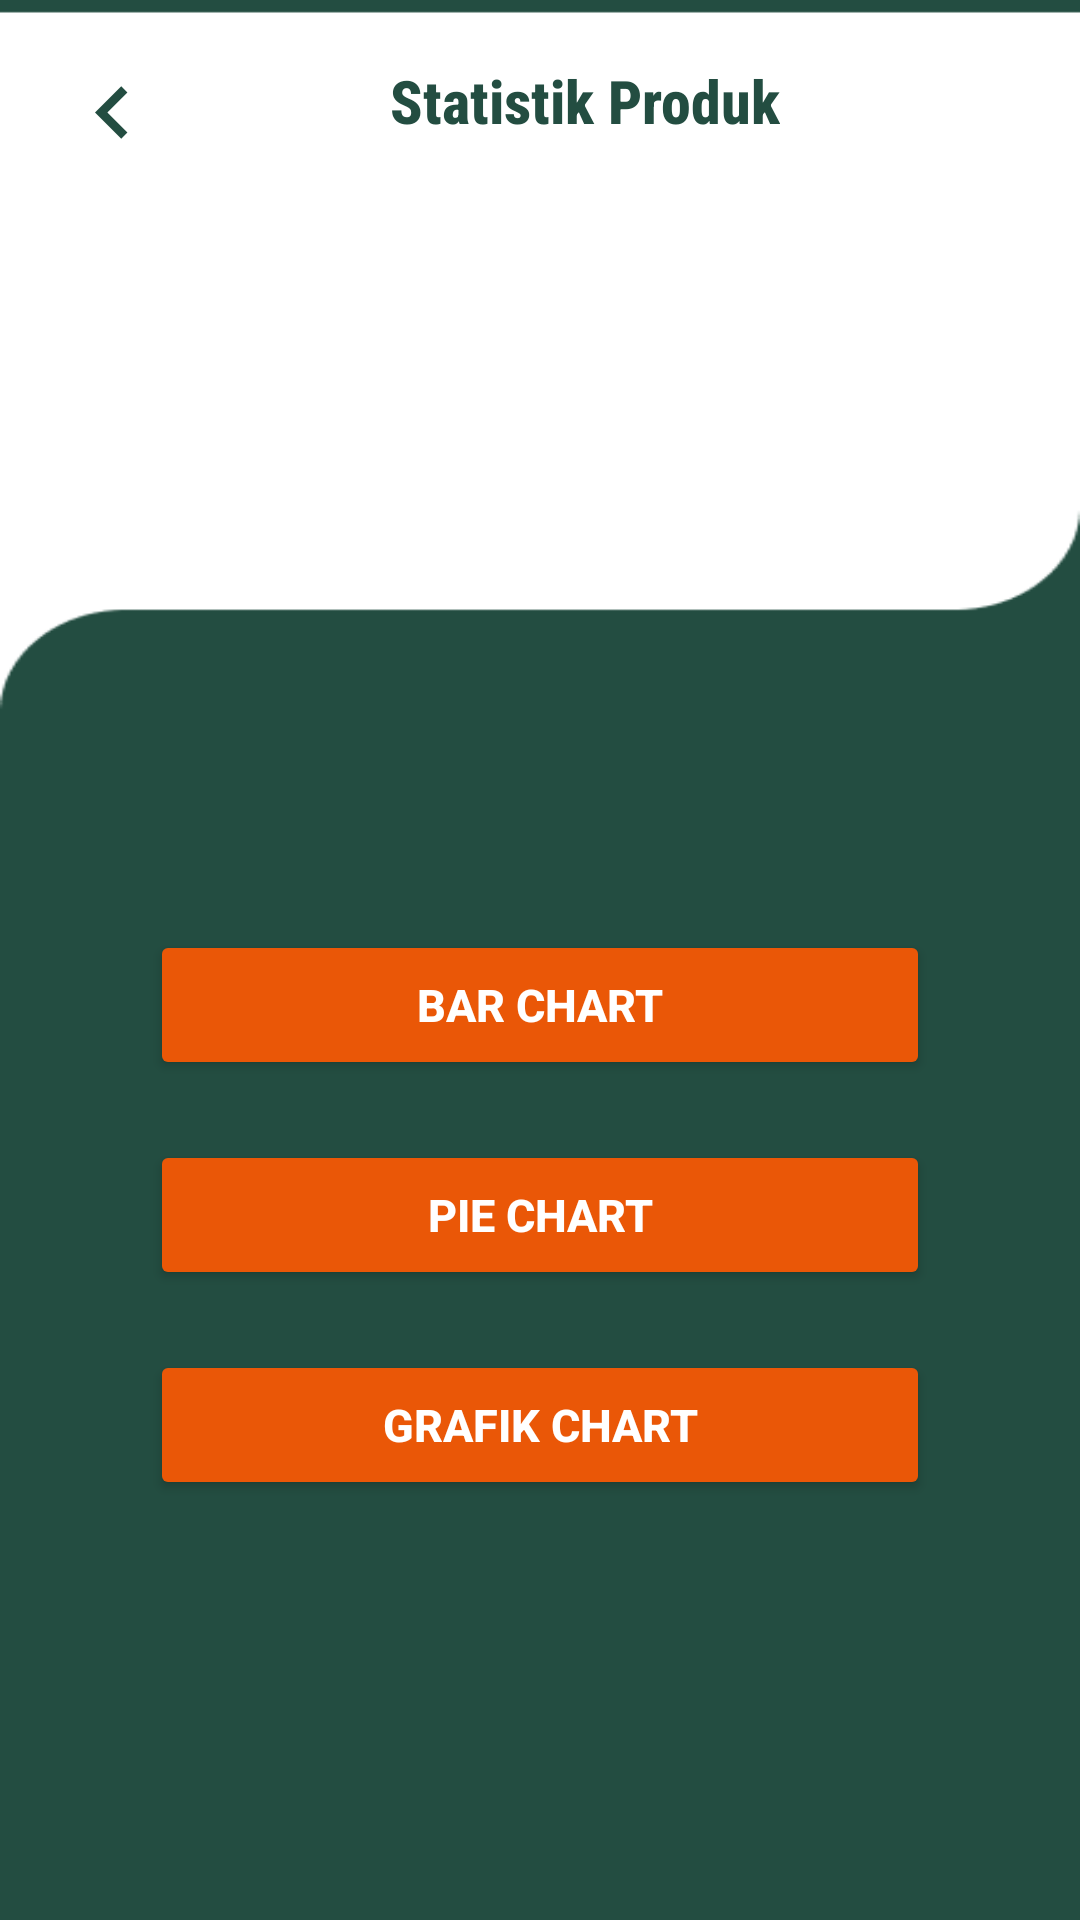

Named icons in this screenshot (1080×1920) and their centers, point (x, y):
back: point (111, 112)
